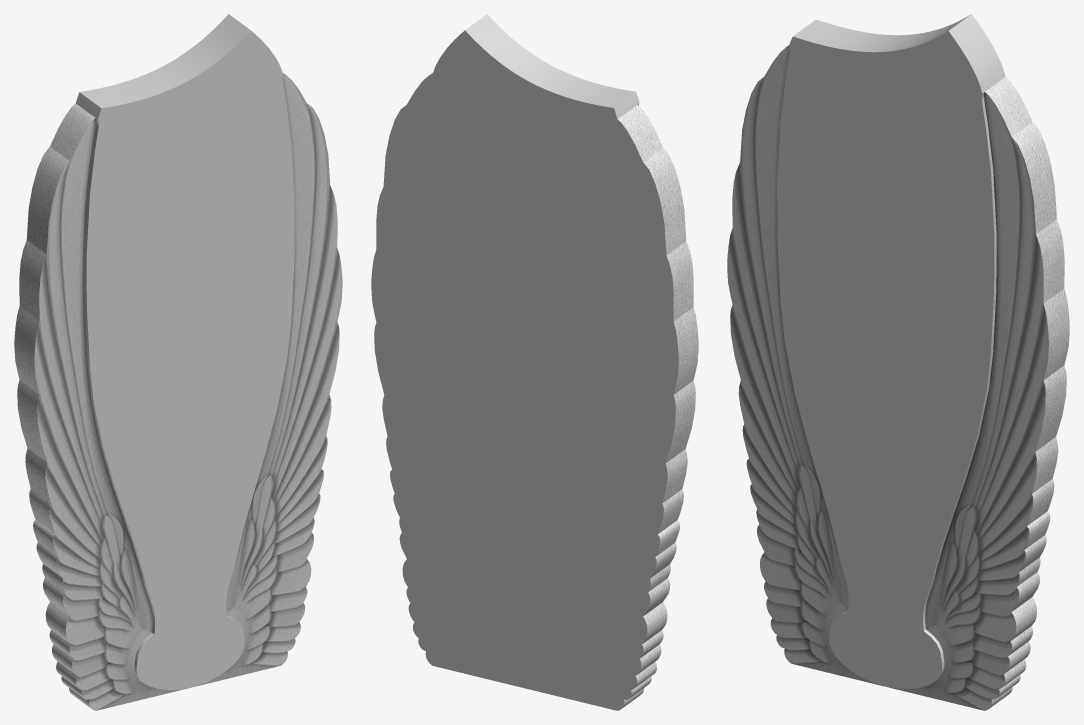
The model's file is cn385070d0af_tkf.glb.
3 renders of one model, left to right at view 1: azimuth 30°, elevation 25°; view 2: azimuth 150°, elevation 25°; view 3: azimuth 330°, elevation 25°, orthographic. The views are drawn at different scales.
Parts seen in each view (by area): view 1: Pam-d01-106, Pam-d01-106_2_notexture; view 2: Pam-d01-106, Pam-d01-106_2_notexture; view 3: Pam-d01-106, Pam-d01-106_2_notexture.
Boxes of the visible parts, box(x1,y1,x2,y2) form: Pam-d01-106: box(76, 14, 294, 689); Pam-d01-106_2_notexture: box(14, 73, 342, 710); Pam-d01-106: box(371, 14, 678, 710); Pam-d01-106_2_notexture: box(429, 73, 698, 708); Pam-d01-106: box(777, 14, 1005, 689); Pam-d01-106_2_notexture: box(727, 45, 1069, 710).
Bounding box in the file's own units: 0.4 × 0.8 × 0.05.
Materials: 1 (1 with a texture image).
